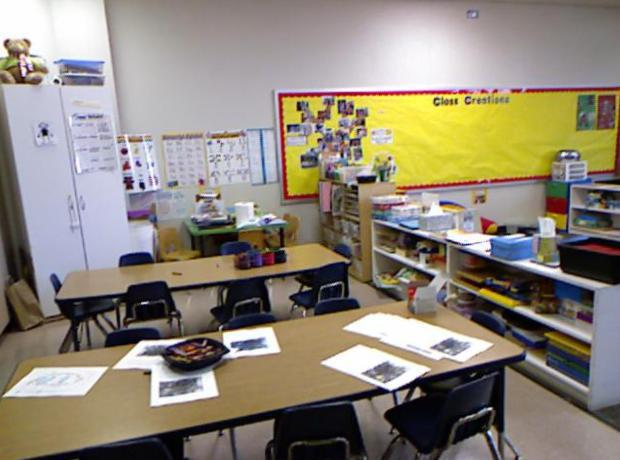Electrodomestico: (4, 83, 130, 312)
